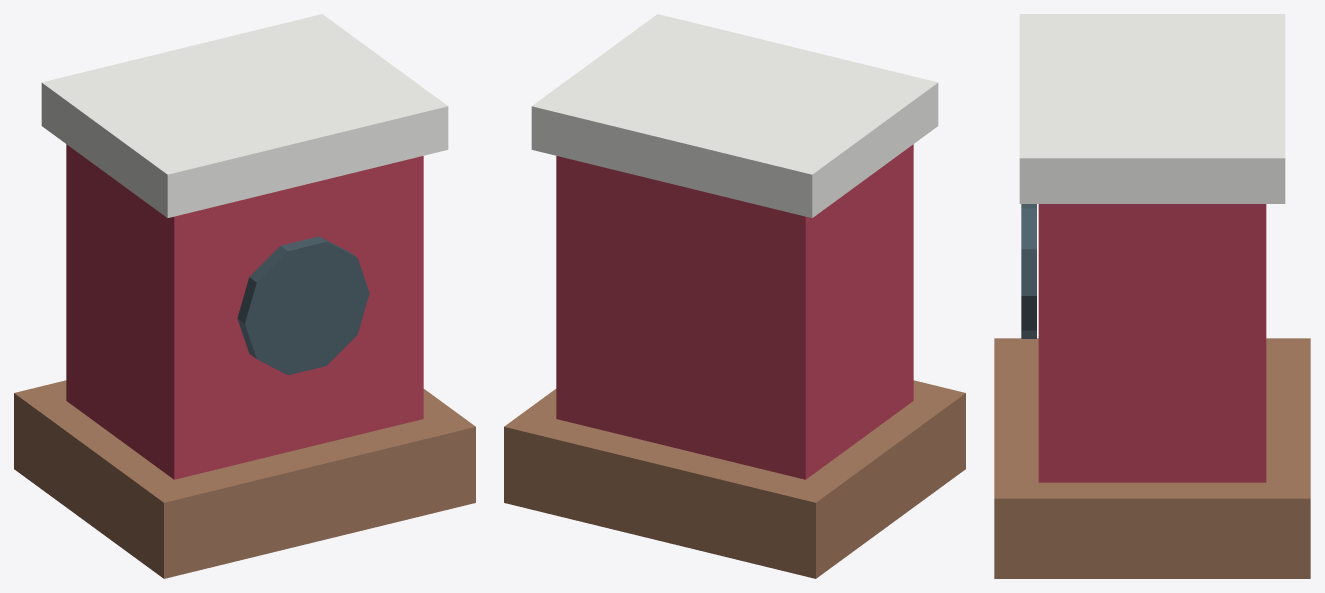
The model's file is saltbin.glb.
3 views of the same model, side by side, from view 1: azimuth 30°, elevation 25°; view 2: azimuth 150°, elevation 25°; view 3: azimuth 270°, elevation 25° (orthographic). The views are drawn at different scales.
Visible parts, largest first — view 1: winter-salt-bin-red, winter-salt-bin-snow, winter-salt-bin-wood, winter-salt-bin-iron; view 2: winter-salt-bin-red, winter-salt-bin-snow, winter-salt-bin-wood; view 3: winter-salt-bin-red, winter-salt-bin-snow, winter-salt-bin-wood, winter-salt-bin-iron.
Boxes of the visible parts, <box> form: winter-salt-bin-red: <box>66,144,423,479</box>; winter-salt-bin-snow: <box>41,14,448,217</box>; winter-salt-bin-wood: <box>14,380,475,578</box>; winter-salt-bin-iron: <box>237,236,369,375</box>; winter-salt-bin-red: <box>556,144,913,479</box>; winter-salt-bin-snow: <box>531,14,938,217</box>; winter-salt-bin-wood: <box>504,380,965,578</box>; winter-salt-bin-red: <box>1038,204,1266,482</box>; winter-salt-bin-snow: <box>1019,14,1285,203</box>; winter-salt-bin-wood: <box>994,338,1310,578</box>; winter-salt-bin-iron: <box>1021,204,1036,338</box>.
Size of the model in its own units: 0.6 by 0.72 by 0.5.
